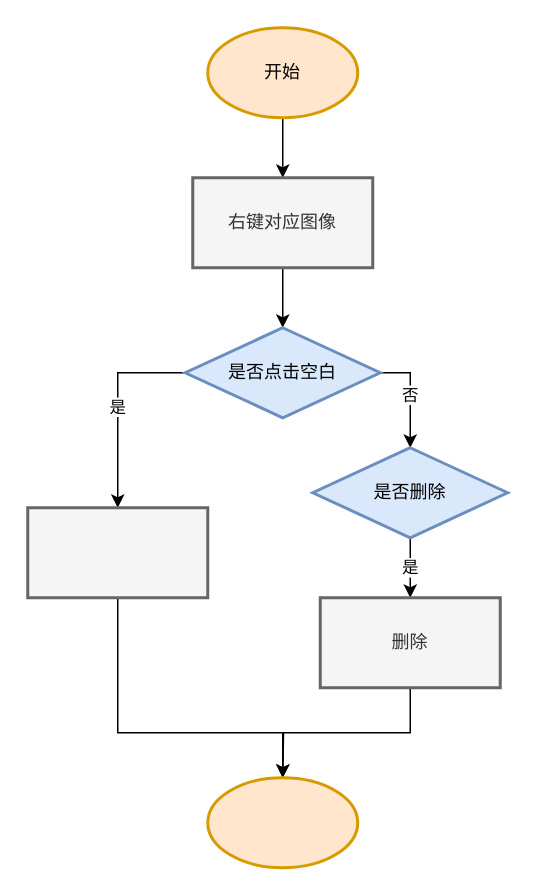
This 534x894 diagram has some shape labels left out. Each missing label, with the centre of its shape:
取消: point (117, 552)
结束: point (282, 822)
